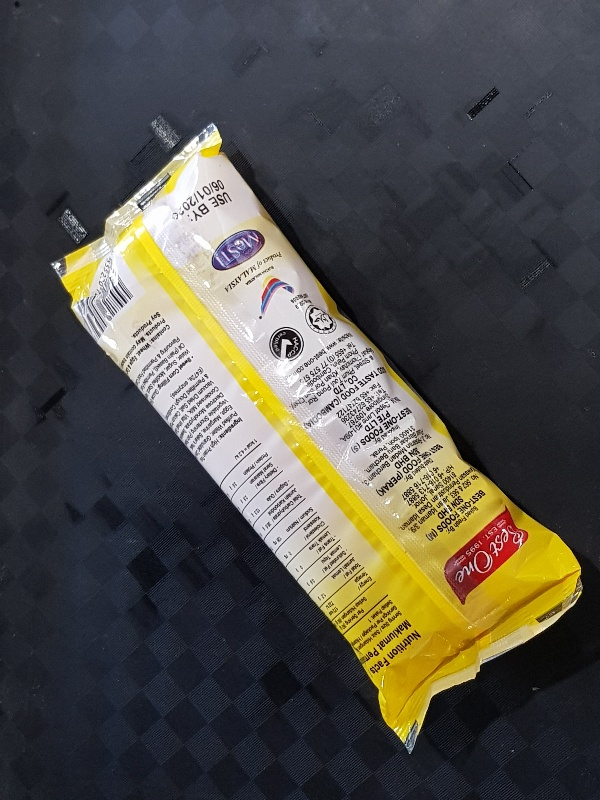Tinges Roll Sweet Corn: (48, 120, 584, 753)
